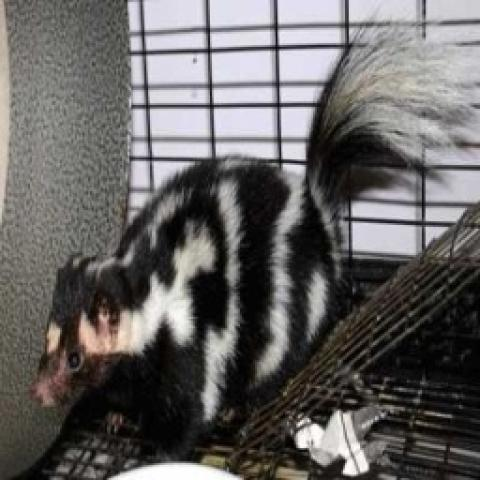small_animal: (32, 16, 480, 464)
